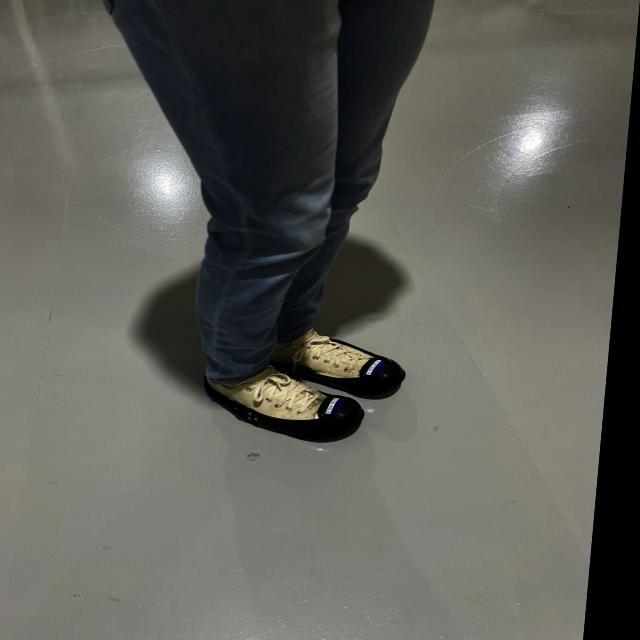shoes: (195, 363, 368, 447), (270, 328, 412, 396)
